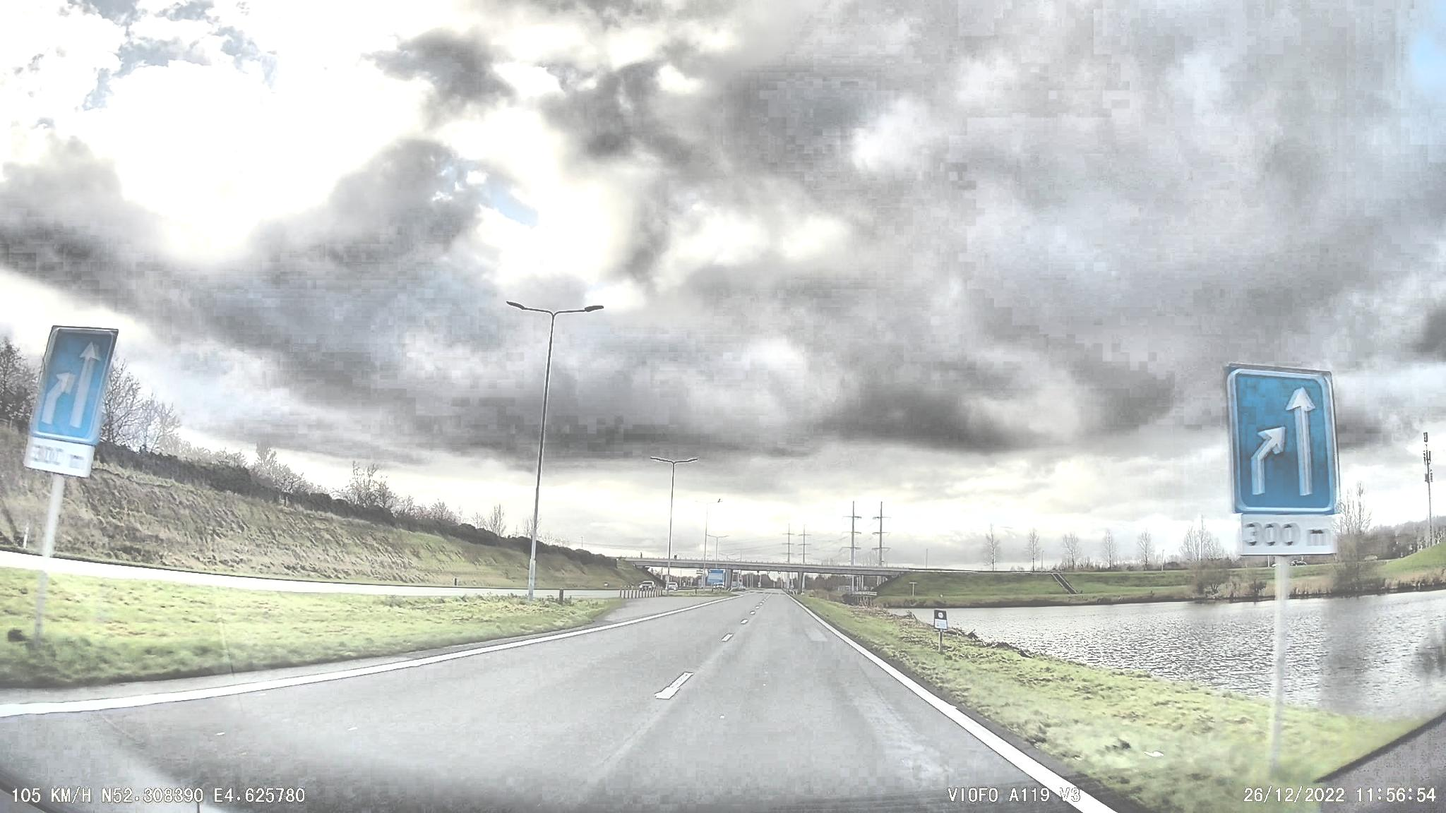Roads: (0, 591, 1138, 813)
